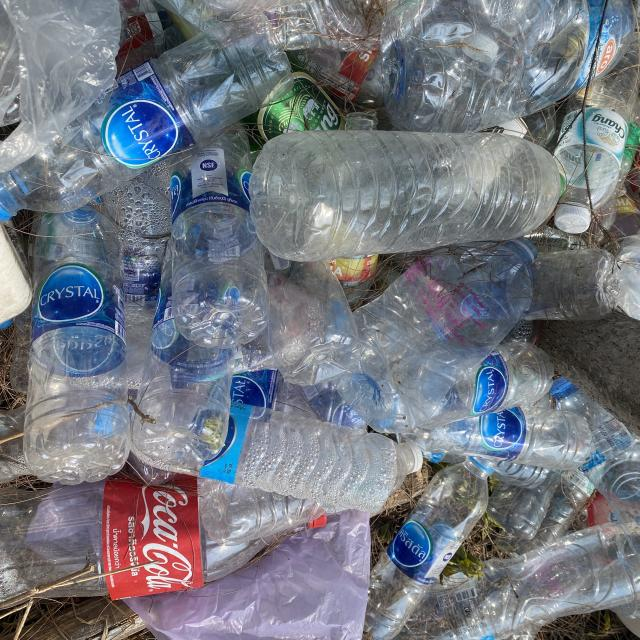Single-layer Plastic: (125, 510, 370, 640), (0, 0, 121, 171)
